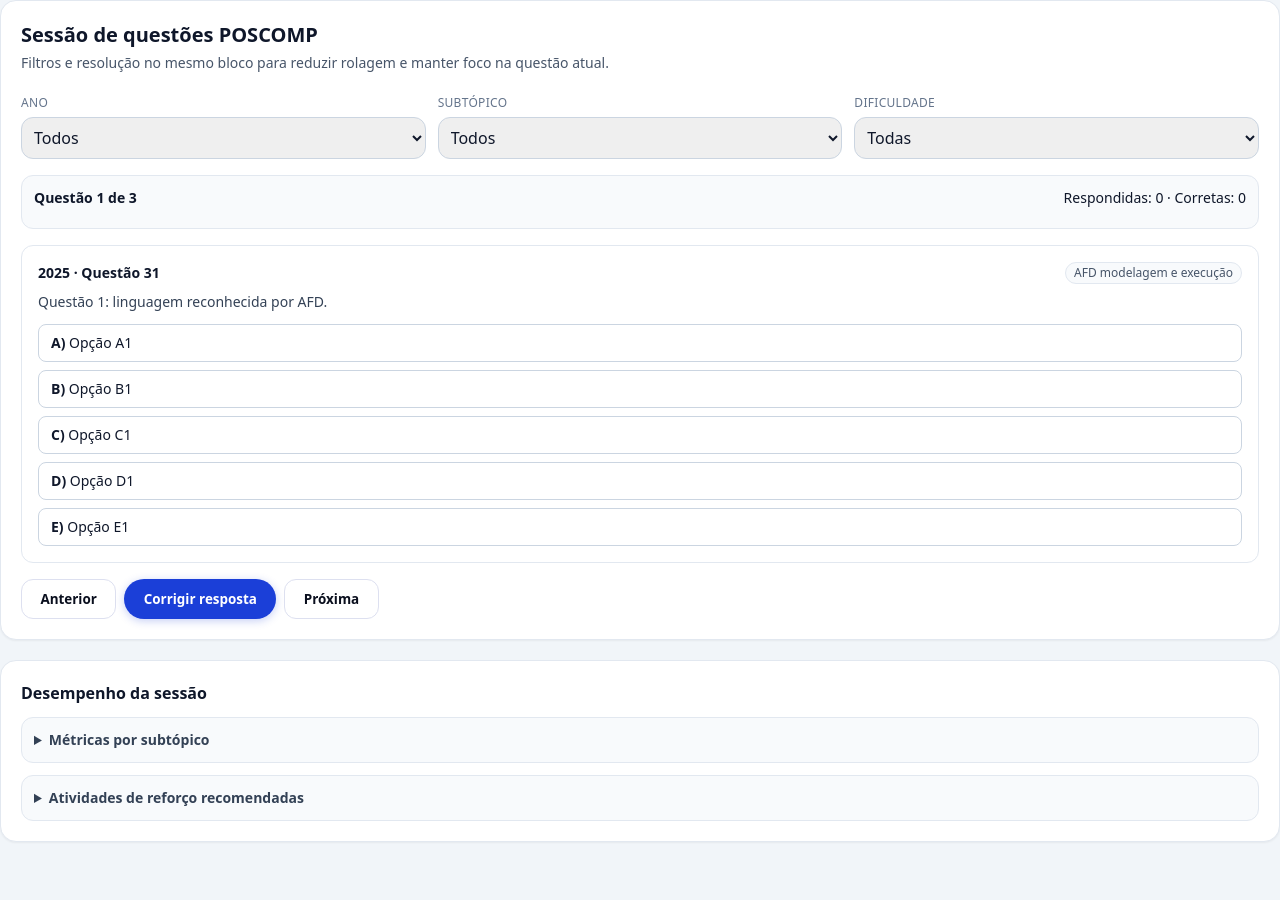
Test: QuestionsPanel UX V2 › exibe feedback único abaixo dos botões com texto direto
expect the text "Questão 1: linguagem reconhecida por AFD." is shown: met, box x1=38 y1=292 x2=327 y2=311
Click the button "B) Opção B1".
click(100, 388)  # box x1=38 y1=370 x2=1242 y2=408
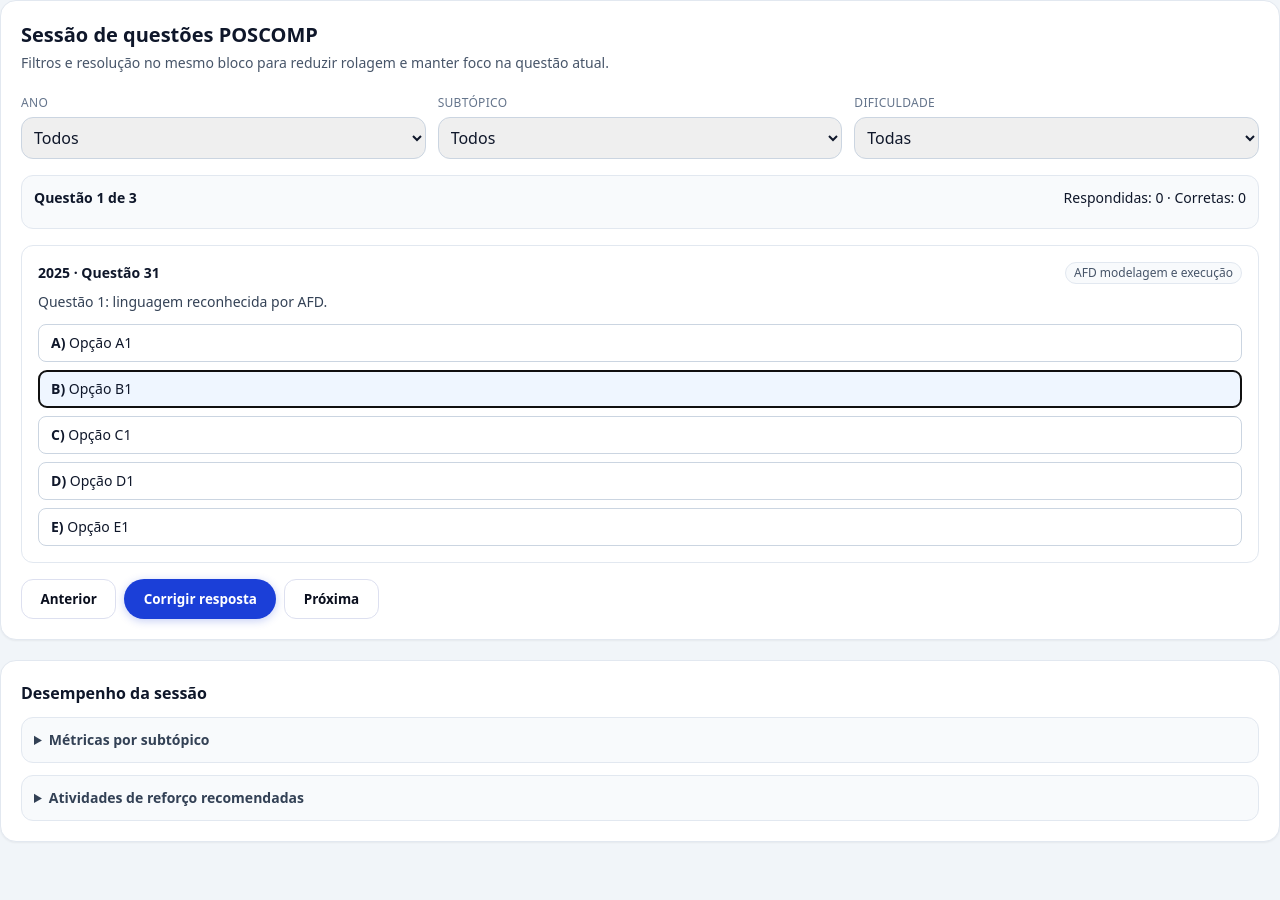
Click the button "Corrigir resposta".
click(200, 599)  # box x1=124 y1=579 x2=276 y2=619
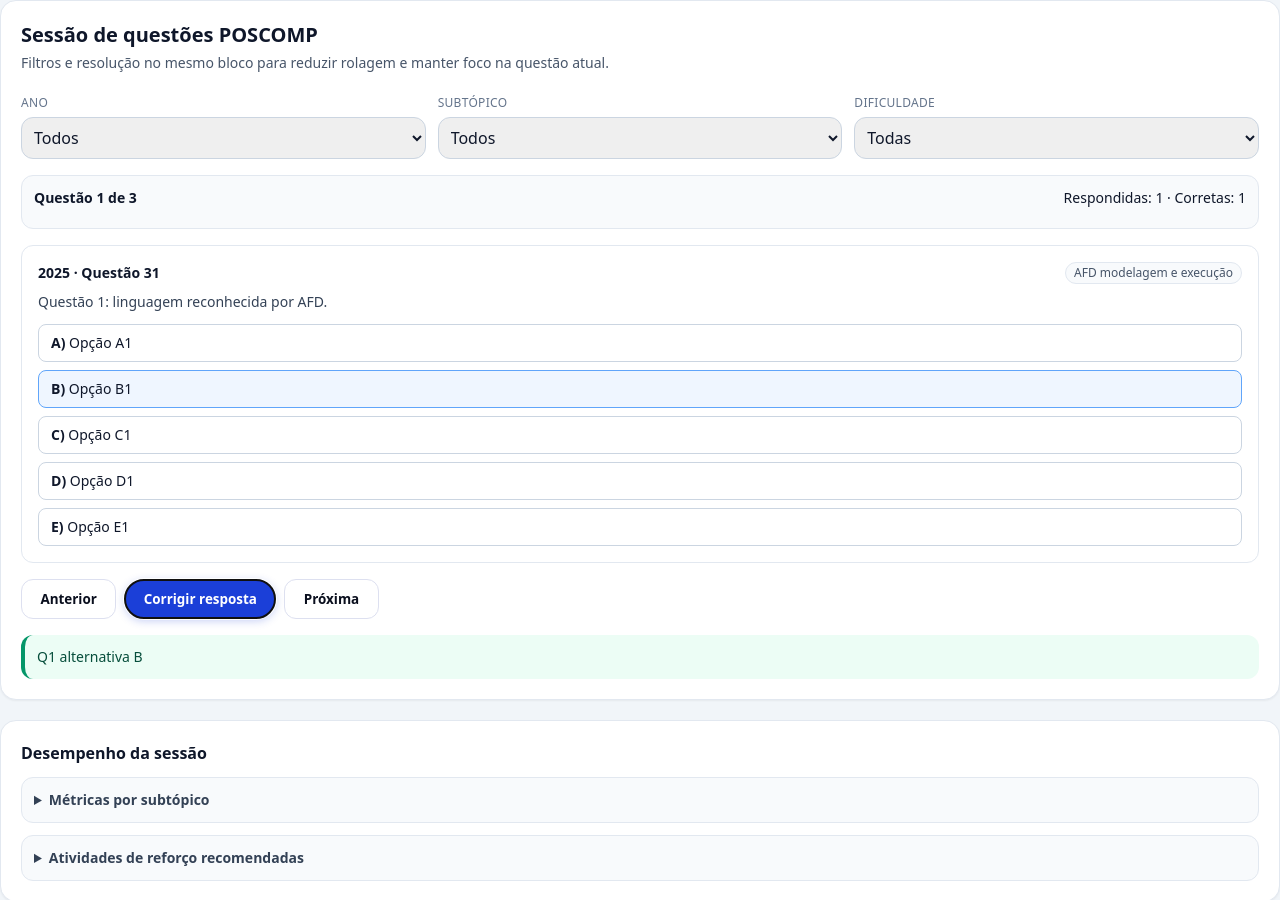
expect the text "Q1 alternativa B" is shown: met, box x1=37 y1=647 x2=143 y2=666
expect the number of elements with test id "exercise-feedback" is 1: met, box x1=21 y1=635 x2=1259 y2=679
